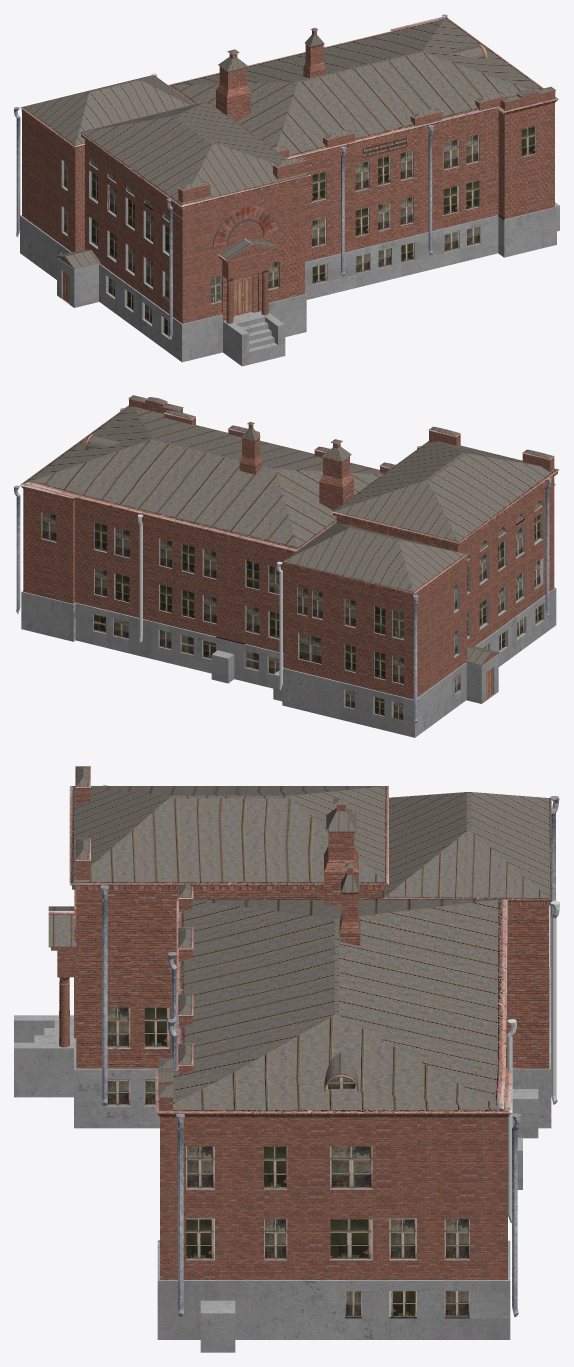
Rendered from red_school1_2.glb.
The picture shows the model from 3 angles, top to bottom: view 1: azimuth 30°, elevation 25°; view 2: azimuth 150°, elevation 25°; view 3: azimuth 270°, elevation 25°; orthographic projection. The views are drawn at different scales.
Parts seen in each view (by area): view 1: Walls, Roof3, Roof1, Roof2, GroundEnter, Smook8, Roof_krilzo, Smook9, Smook1, Waterroof3, Waterroof6, Smook3 (+3 smaller); view 2: Walls, Roof3, Roof1, Roof2, Smook8, GroundEnter, Smook9, Waterroof1, Waterroof6, Waterroof5, Smook1, Waterroof3.001 (+3 smaller); view 3: Walls, Roof3, Roof1, Roof2, Smook8, Waterroof4, Smook9, Waterroof2, Waterroof5, Waterroof7.001, Roof_krilzo, Cylinder (+3 smaller).
Boxes of the visible parts, left/top/right/bottom form: Walls: left=20, top=103, right=559, bottom=366; Roof3: left=168, top=16, right=558, bottom=159; Roof1: left=79, top=101, right=309, bottom=209; Roof2: left=20, top=75, right=193, bottom=150; GroundEnter: left=56, top=249, right=100, bottom=307; Smook8: left=216, top=49, right=250, bottom=121; Roof_krilzo: left=217, top=238, right=278, bottom=263; Smook9: left=303, top=28, right=325, bottom=77; Smook1: left=500, top=86, right=555, bottom=110; Waterroof3: left=428, top=125, right=433, bottom=254; Waterroof6: left=14, top=107, right=20, bottom=237; Smook3: left=178, top=180, right=210, bottom=203; Walls: left=21, top=477, right=556, bottom=737; Roof3: left=19, top=405, right=383, bottom=553; Roof1: left=331, top=441, right=559, bottom=546; Roof2: left=282, top=522, right=468, bottom=596; Smook8: left=319, top=439, right=353, bottom=510; GroundEnter: left=465, top=646, right=499, bottom=703; Smook9: left=239, top=422, right=261, bottom=474; Waterroof1: left=545, top=477, right=551, bottom=617; Waterroof6: left=413, top=594, right=418, bottom=723; Waterroof5: left=14, top=485, right=20, bottom=613; Smook1: left=128, top=395, right=183, bottom=413; Waterroof3.001: left=137, top=514, right=143, bottom=642; Walls: left=14, top=889, right=551, bottom=1352; Roof3: left=155, top=899, right=512, bottom=1117; Roof1: left=69, top=786, right=388, bottom=889; Roof2: left=382, top=792, right=551, bottom=905; Smook8: left=324, top=798, right=358, bottom=905; Waterroof4: left=176, top=1114, right=184, bottom=1316; Smook9: left=339, top=863, right=360, bottom=945; Waterroof2: left=100, top=885, right=109, bottom=1105; Waterroof5: left=512, top=1113, right=520, bottom=1316; Waterroof7.001: left=551, top=901, right=559, bottom=1104; Roof_krilzo: left=48, top=906, right=76, bottom=950; Cylinder: left=324, top=1053, right=358, bottom=1091.
Size of the model in its own units: 37.02 by 17.27 by 25.2.
Materials: 1 (1 with a texture image).
